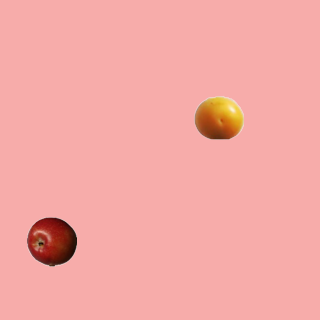Apple Braeburn: (26, 216, 76, 266)
Cherry Wax Yellow: (193, 92, 243, 142)
